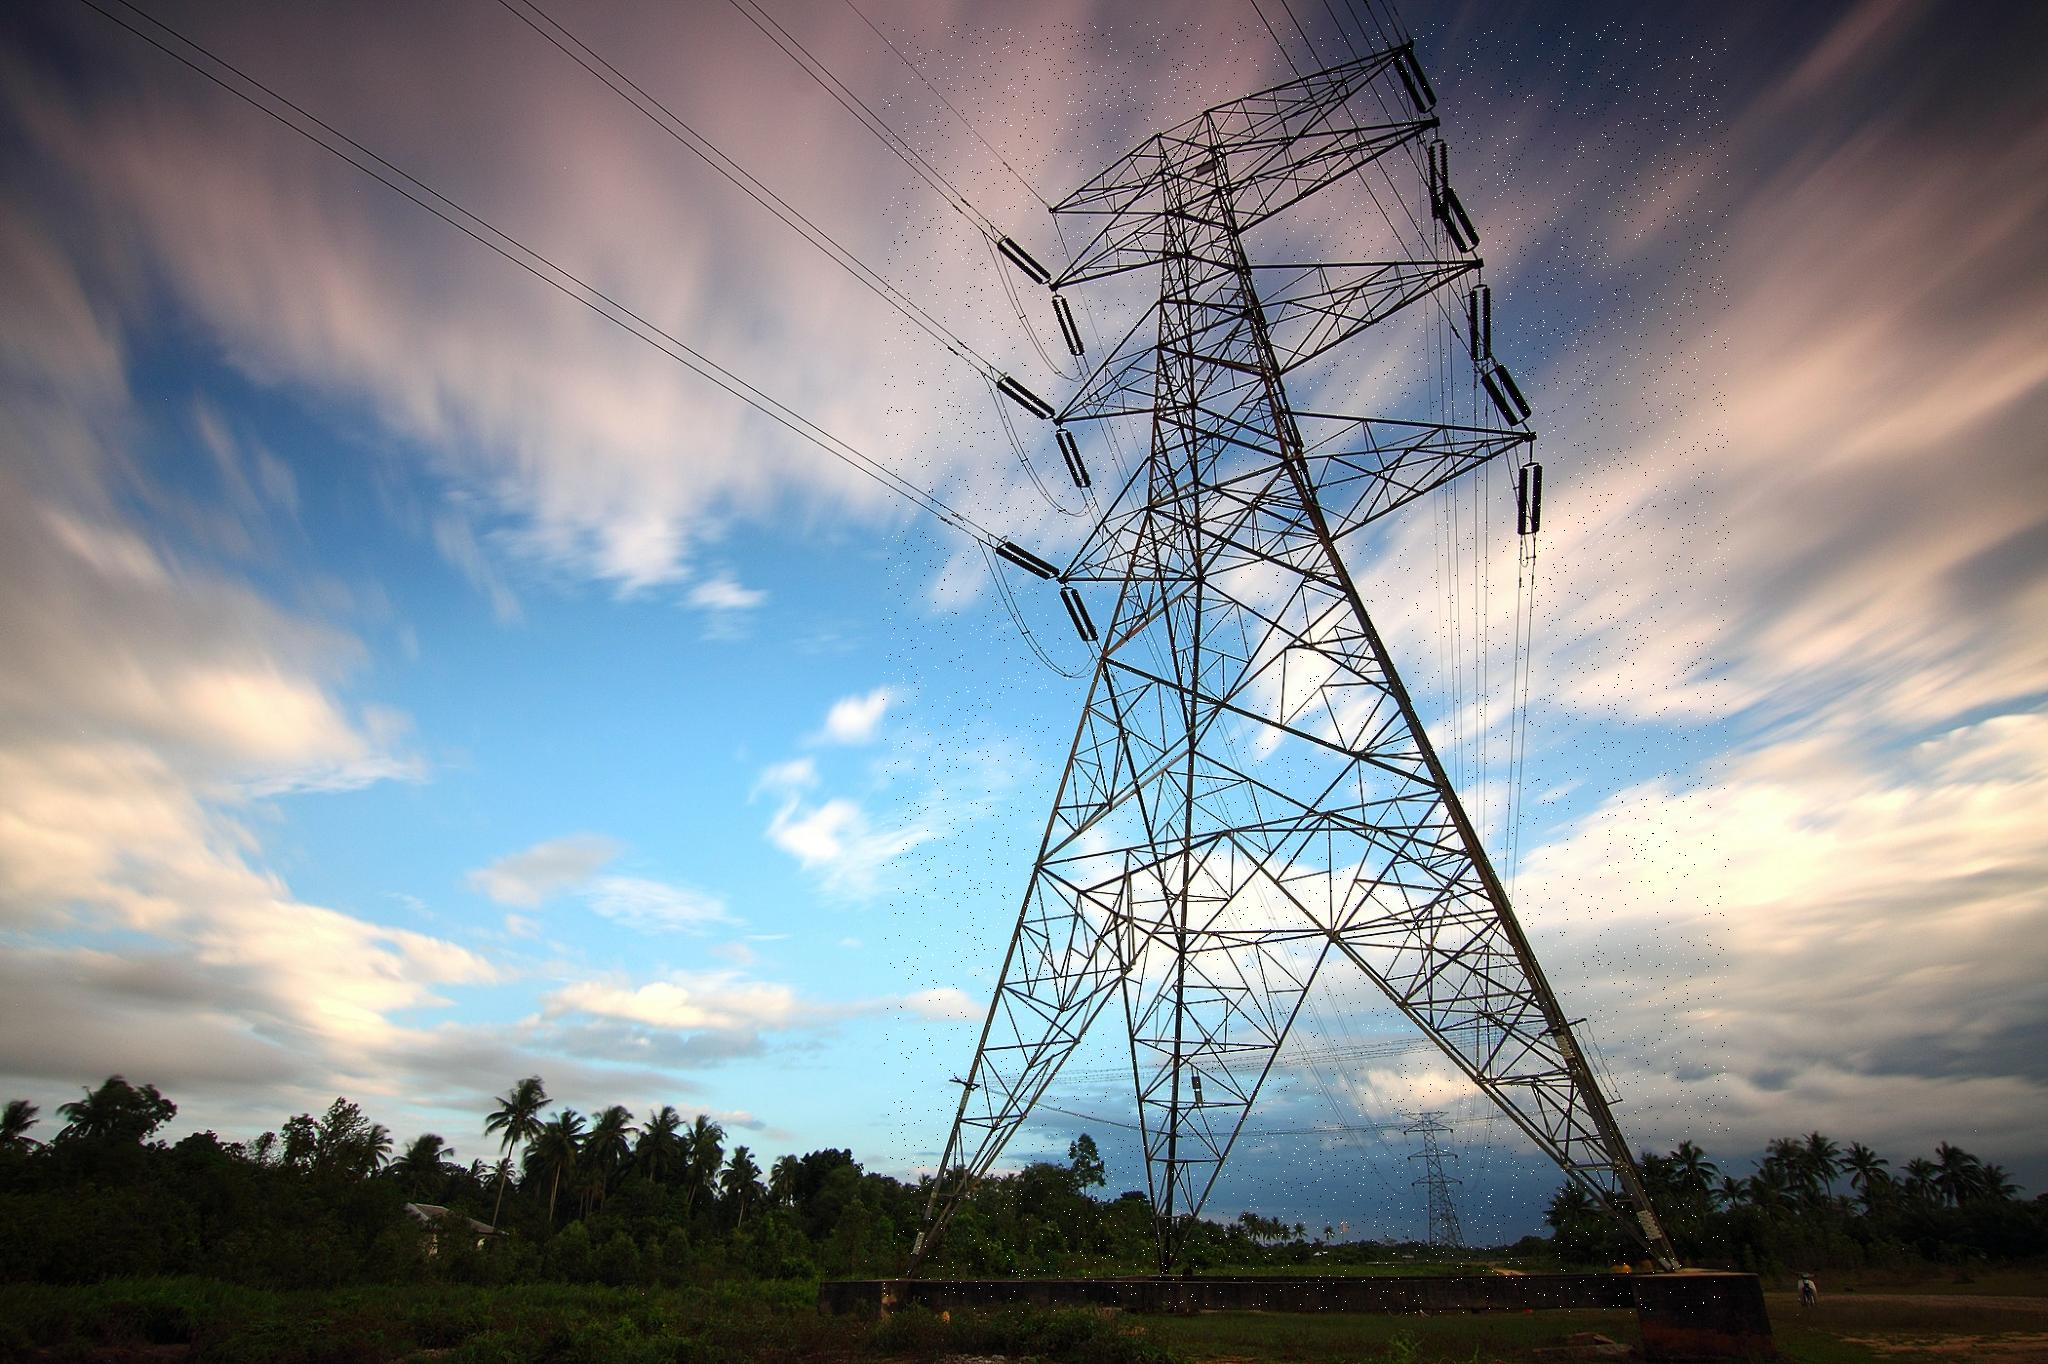cable tower: (882, 21, 1728, 1314)
